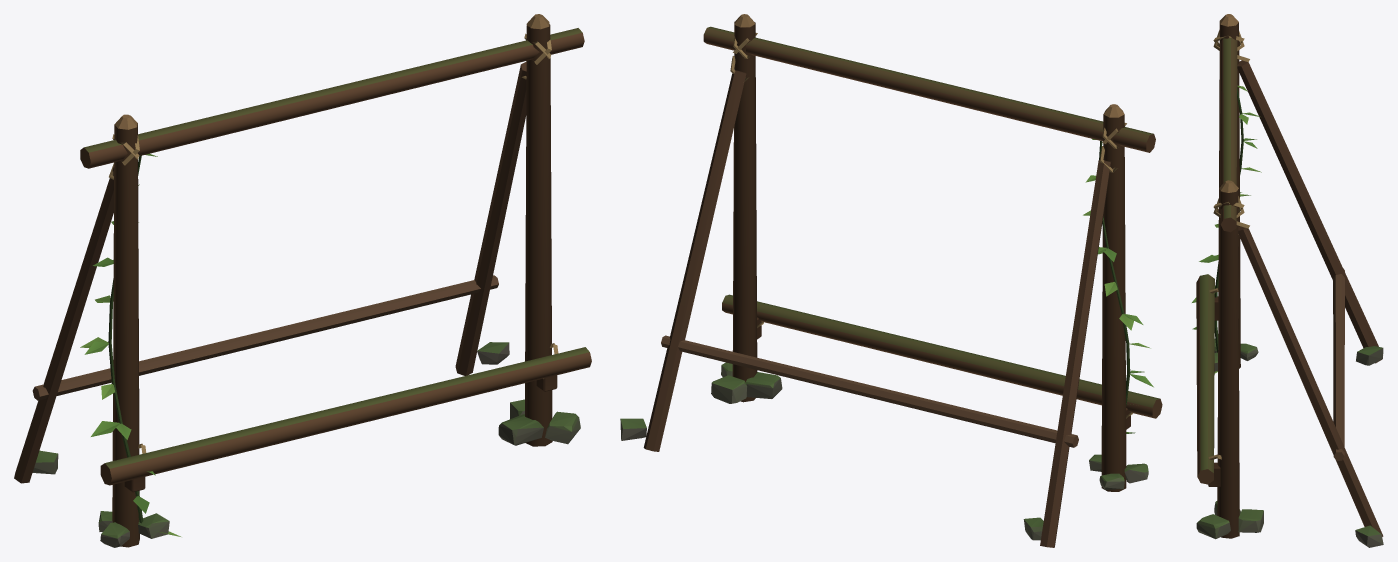
File: exhibit-easel.glb
3 views of the same model, side by side, from view 1: azimuth 30°, elevation 25°; view 2: azimuth 150°, elevation 25°; view 3: azimuth 270°, elevation 25° (orthographic). The views are drawn at different scales.
Parts seen in each view (by area): view 1: exhibit-easel; view 2: exhibit-easel; view 3: exhibit-easel.
Boxes of the visible parts, x1,y1,x2,y2 form: exhibit-easel: (14,14,591,547); exhibit-easel: (620,14,1162,547); exhibit-easel: (1192,14,1383,547).
Size of the model in its own units: 4.44 by 3.56 by 1.76.
